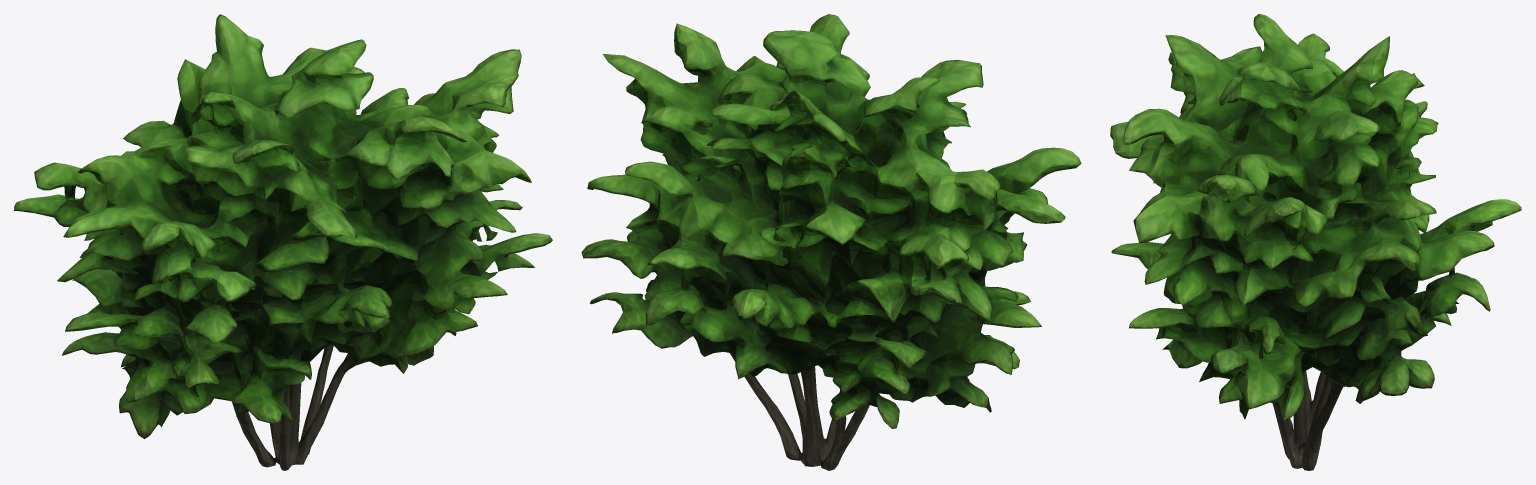
Rendered from bush_2.glb.
The picture shows the model from 3 angles, left to right: view 1: azimuth 30°, elevation 25°; view 2: azimuth 150°, elevation 25°; view 3: azimuth 270°, elevation 25°; orthographic projection. The views are drawn at different scales.
Visible parts, largest first — view 1: world; view 2: world; view 3: world.
Boxes of the visible parts, left/top/right/bottom form: world: left=14, top=14, right=552, bottom=470; world: left=581, top=14, right=1081, bottom=470; world: left=1110, top=14, right=1521, bottom=470.
Size of the model in its own units: 1 by 0.8663 by 0.7776.
Materials: 1 (1 with a texture image).
